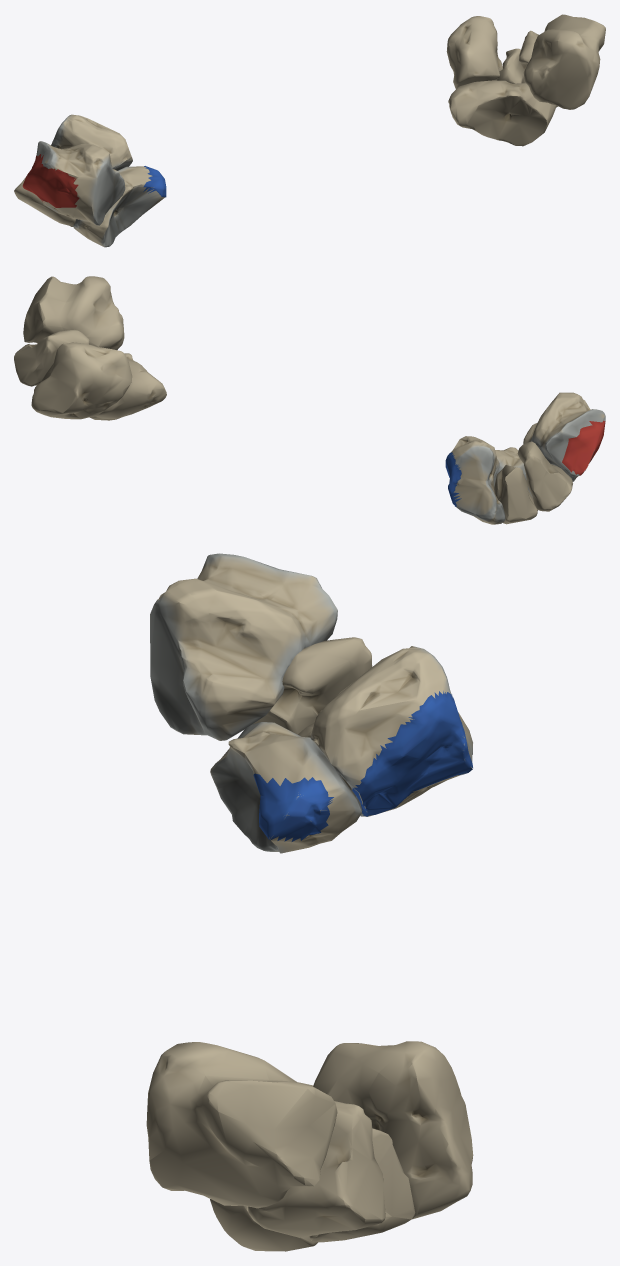
The model's file is ossa-tarsi-anteriora.glb.
3 renders of one model, top to bottom at view 1: azimuth 30°, elevation 25°; view 2: azimuth 150°, elevation 25°; view 3: azimuth 270°, elevation 25°, orthographic. The views are drawn at different scales.
Visible parts, largest first — view 1: FJ3258, FJ3307, FJ3364, FJ3271, FJ3308, origo__cuboideum-sulcus__m-flexor-hallucis-brevis, FJ3377, FJ3373, FJ3264, ossa-tarsi-anteriora__naviculare-tuberositas, ossa-tarsi-anteriora__cuneiformia, insertio__naviculare-tuberositas__FJ1440 (+1 smaller); view 2: FJ3271, FJ3258, FJ3364, FJ3377, FJ3373, FJ3267, FJ3307, FJ3370, origo__cuboideum-sulcus__m-flexor-hallucis-brevis, FJ3308, insertio__cuneiformia__FJ1439, ossa-tarsi-anteriora__cuneiformia; view 3: FJ3364, FJ3258, FJ3271, FJ3267, FJ3377, FJ3308, insertio__cuneiformia__FJ1439, FJ3373, insertio__naviculare-tuberositas__FJ1440, FJ3264, FJ3307, ossa-tarsi-anteriora__cuneiformia (+1 smaller).
Boxes of the visible parts, x1,y1,x2,y2 form: FJ3258: (523,14,605,109); FJ3307: (448,80,556,146); FJ3364: (36,141,125,225); FJ3271: (446,16,503,88); FJ3308: (73,166,161,247); origo__cuboideum-sulcus__m-flexor-hallucis-brevis: (22,154,79,207); FJ3377: (32,114,131,167); FJ3373: (14,177,76,225); FJ3264: (496,48,526,83); ossa-tarsi-anteriora__naviculare-tuberositas: (114,197,164,233); ossa-tarsi-anteriora__cuneiformia: (51,132,132,170); insertio__naviculare-tuberositas__FJ1440: (143,166,166,197); FJ3271: (31,342,132,419); FJ3258: (23,276,124,349); FJ3364: (523,392,605,481); FJ3377: (451,436,505,517); FJ3373: (517,441,572,511); FJ3267: (14,329,89,386); FJ3307: (89,353,166,420); FJ3370: (494,464,537,524); origo__cuboideum-sulcus__m-flexor-hallucis-brevis: (562,420,605,475); FJ3308: (493,447,532,497); insertio__cuneiformia__FJ1439: (445,452,461,506); ossa-tarsi-anteriora__cuneiformia: (456,456,505,524); FJ3364: (150,553,337,740); FJ3258: (146,1042,337,1208); FJ3271: (313,1041,473,1219); FJ3267: (247,1101,385,1237); FJ3377: (311,646,472,771); FJ3308: (210,722,361,851); insertio__cuneiformia__FJ1439: (352,691,472,816); FJ3373: (253,637,372,734); insertio__naviculare-tuberositas__FJ1440: (253,773,333,841); FJ3264: (309,1128,415,1242); FJ3307: (210,1082,317,1251); ossa-tarsi-anteriora__cuneiformia: (310,730,472,816).
Bounding box in the file's own units: 230 × 45.37 × 57.37.
